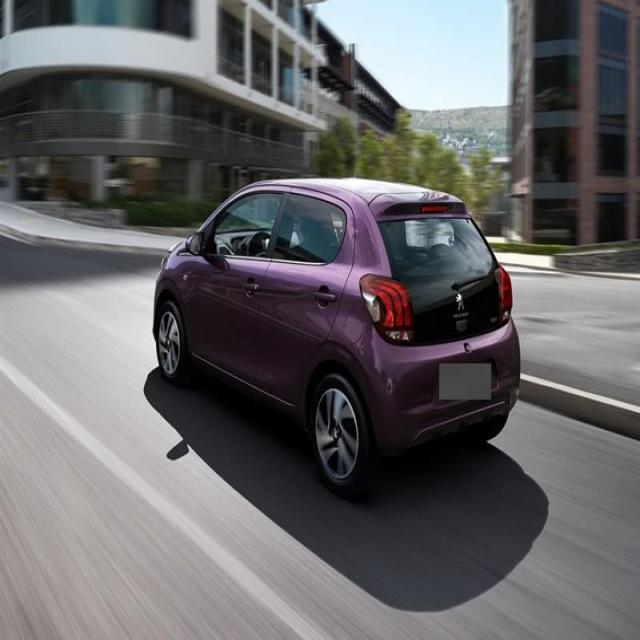back_glass: (376, 210, 494, 283)
back_left_side_light: (358, 272, 414, 347)
back_right_side_light: (496, 264, 515, 321)
door: (253, 197, 358, 391)
front_left_side_door: (180, 180, 293, 382)
front_left_side_mirror: (185, 230, 202, 260)
rear_bumper: (350, 325, 522, 449)
wheel: (310, 368, 368, 493), (154, 300, 186, 375)
